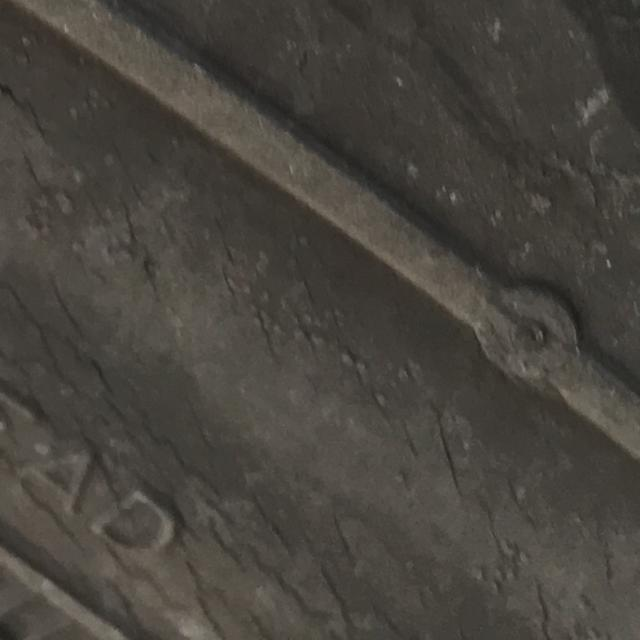Cracks: (0, 31, 639, 639)
